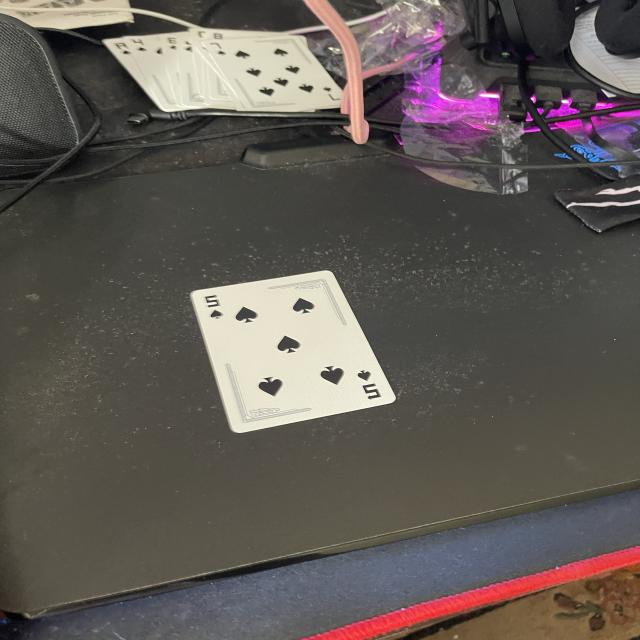5 of spades: (191, 271, 396, 433)
7 of spades: (207, 37, 341, 110)
